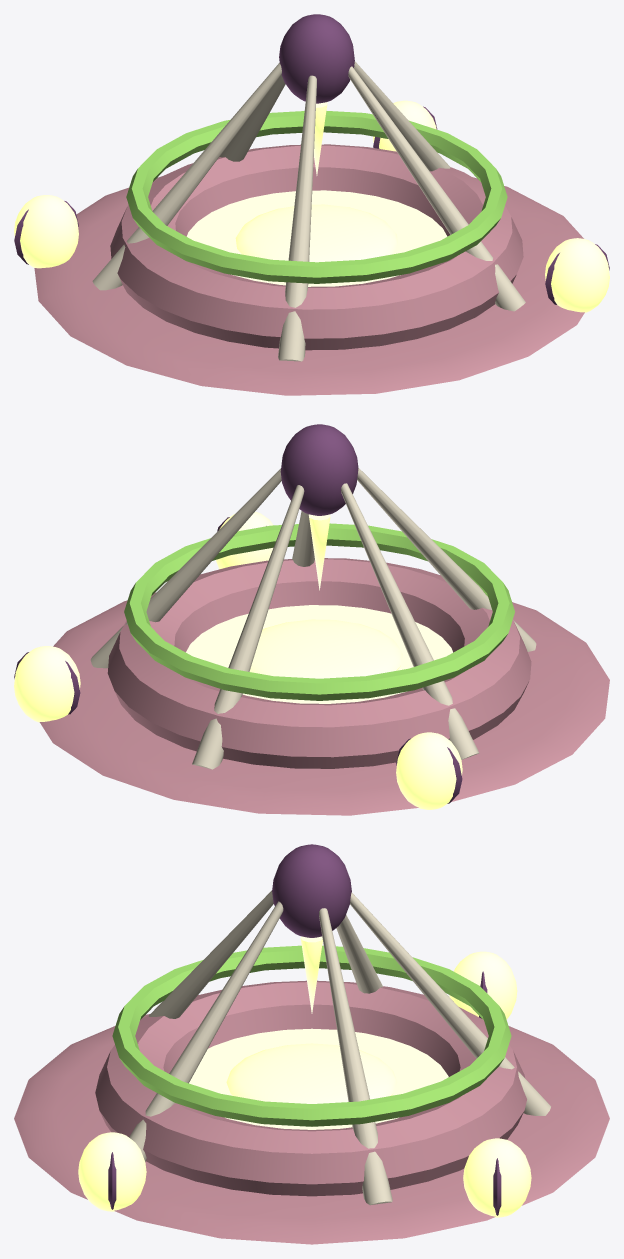
Rendered from medic_ins.glb.
3 views of the same model, one above another, from view 1: azimuth 30°, elevation 25°; view 2: azimuth 150°, elevation 25°; view 3: azimuth 270°, elevation 25° (orthographic). The views are drawn at different scales.
Parts seen in each view (by area): view 1: medic_ins; view 2: medic_ins; view 3: medic_ins.
Boxes of the visible parts, box(x1,y1,x2,y2) form: medic_ins: box(14, 14, 609, 395); medic_ins: box(14, 424, 609, 815); medic_ins: box(14, 844, 609, 1244).
Size of the model in its own units: 2.09 by 1.11 by 2.09.
